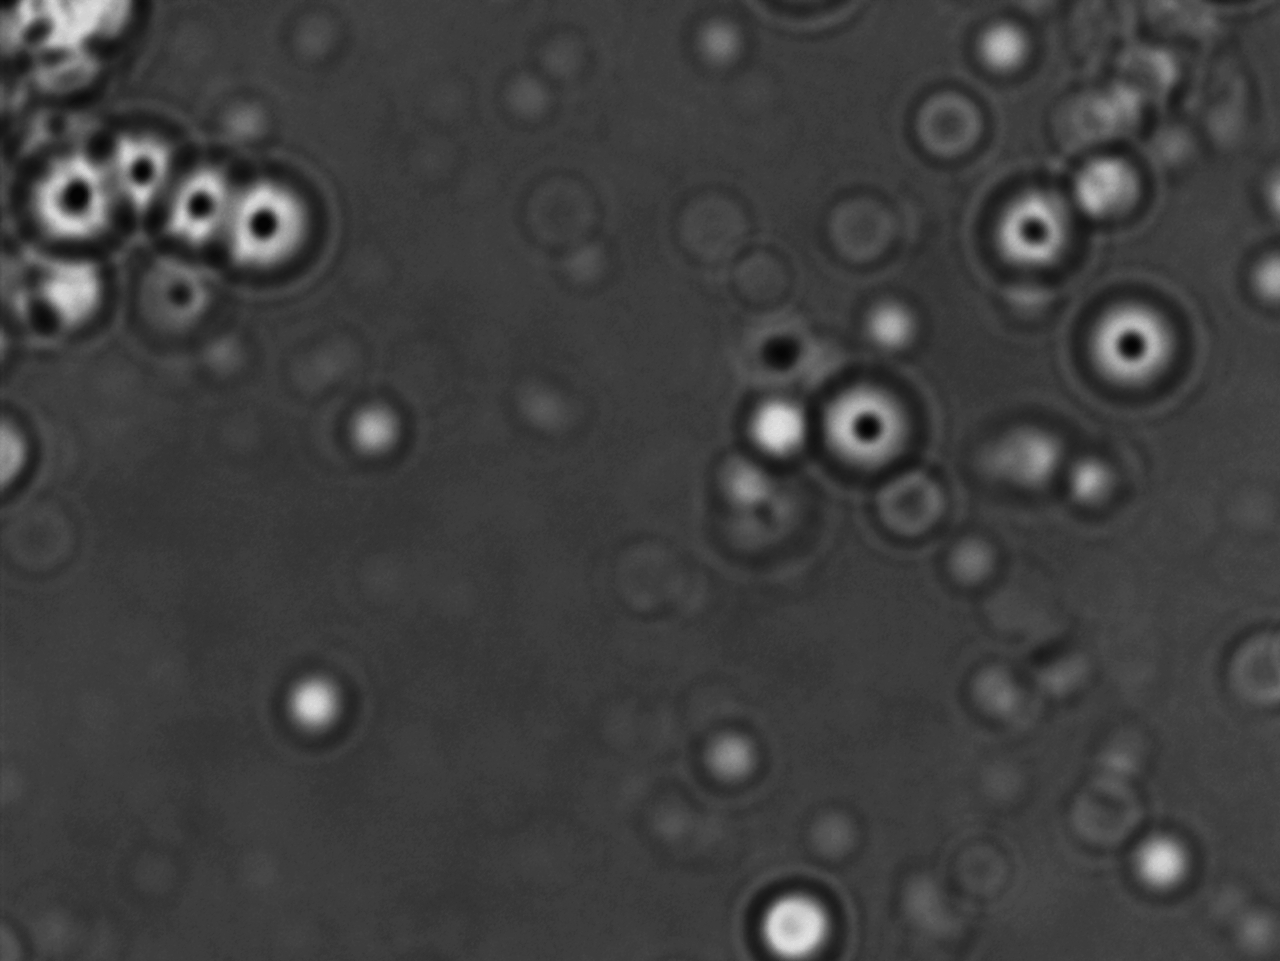depth:24: (960, 159, 1099, 296), (802, 346, 933, 482), (1062, 278, 1193, 412), (207, 163, 329, 288), (22, 135, 142, 259), (146, 137, 262, 262), (92, 112, 210, 221)
